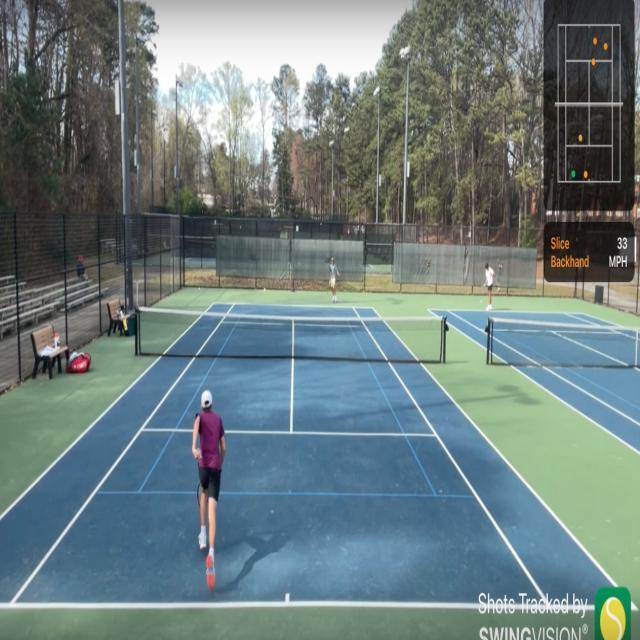ball: (263, 288, 266, 292), (198, 287, 200, 290)
